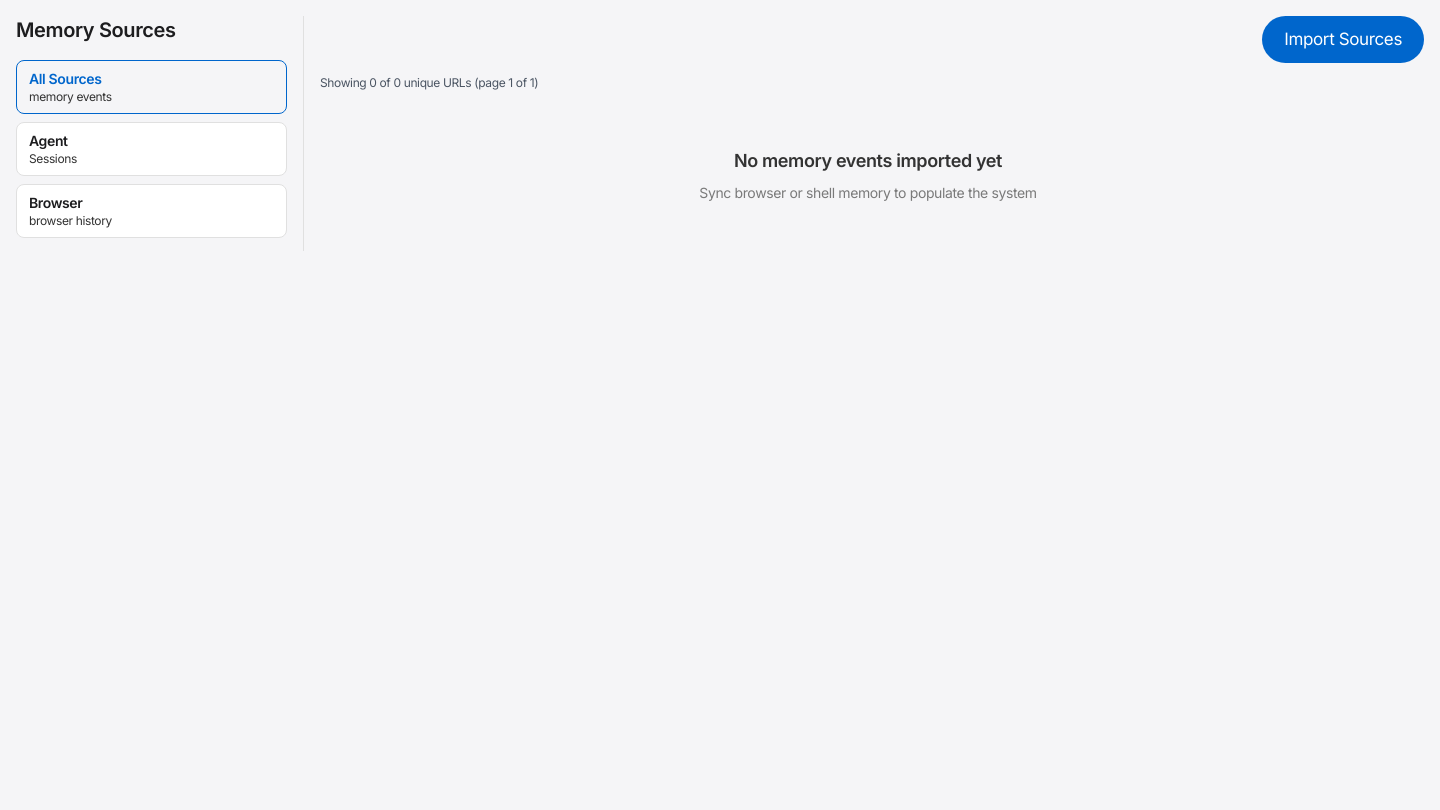
Test: SourceManagementPanel › shows only the selected source JSONL ledger format as formatted JSON
Click the button "Agent Sessions".
click(48, 140)  # box [16,122,287,176]
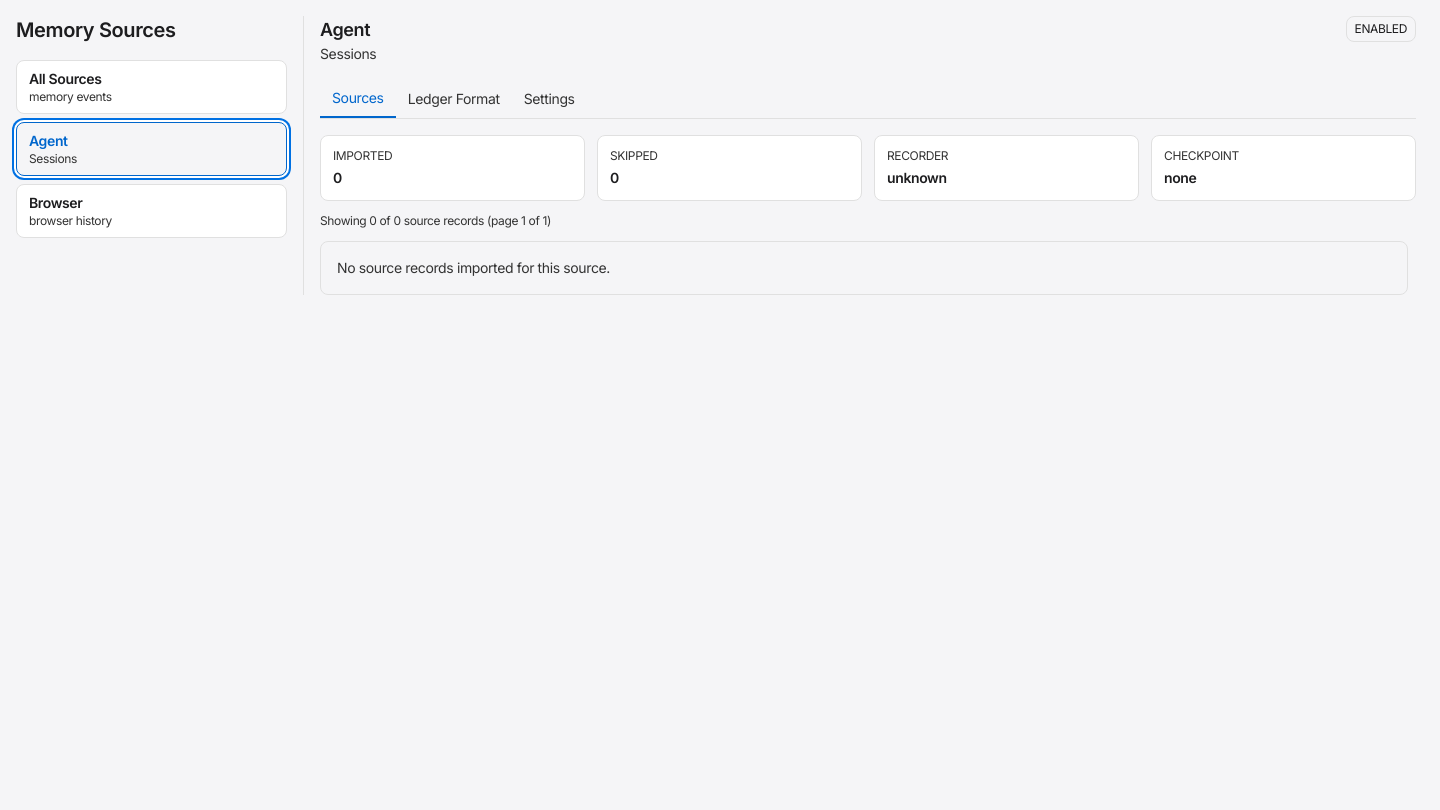
Click the tab "Ledger Format".
click(454, 99)  # box [396,80,512,118]
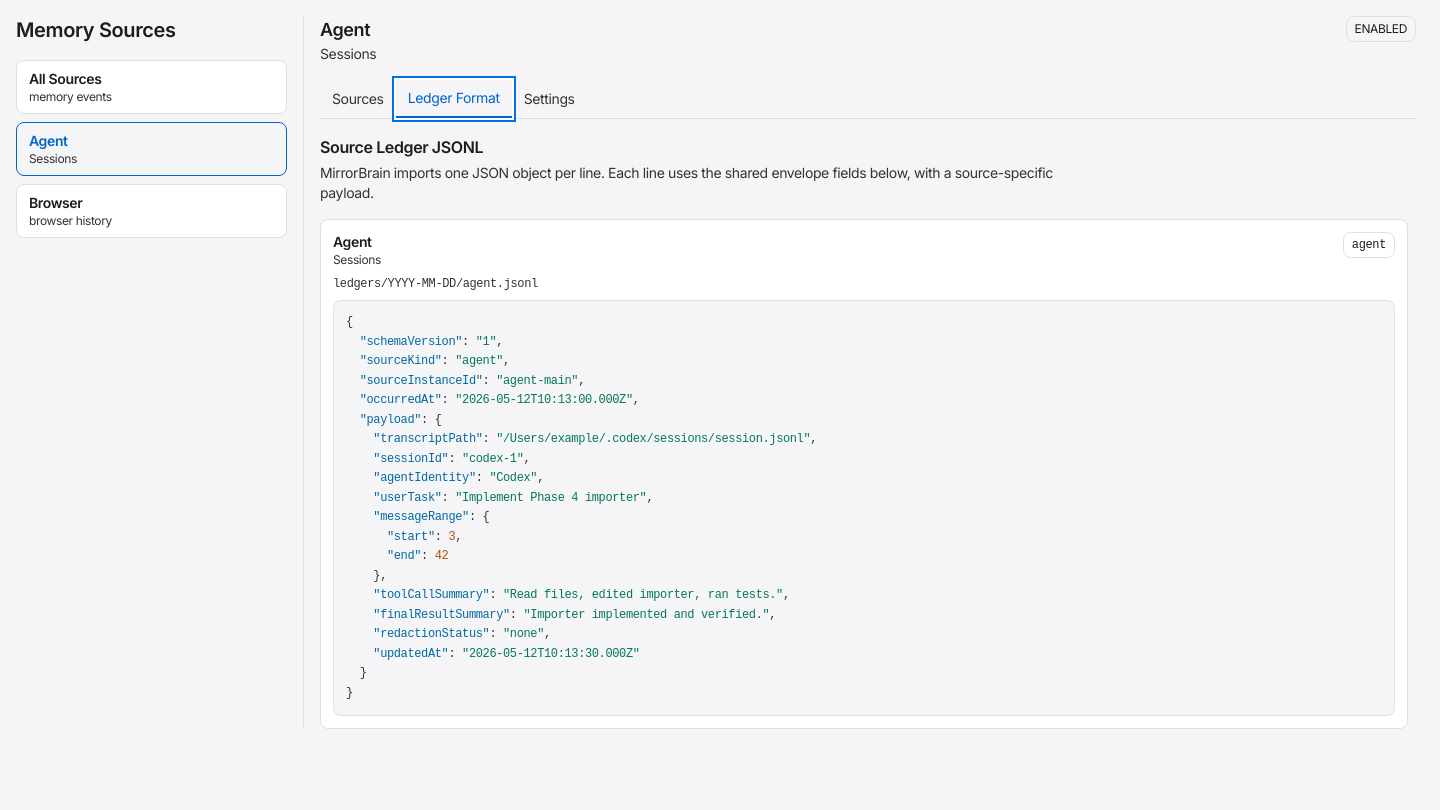
Result: the heading "Source Ledger JSONL" is shown at [320,137,483,157]
Result: the text "agent" is shown at [1343,232,1395,258]
Result: the element named "agent ledger JSONL example" shows "\"finalResultSummary\"" at [373,608,510,622]
Click the button "Browser browser history".
click(56, 202)  # box [16,184,287,238]
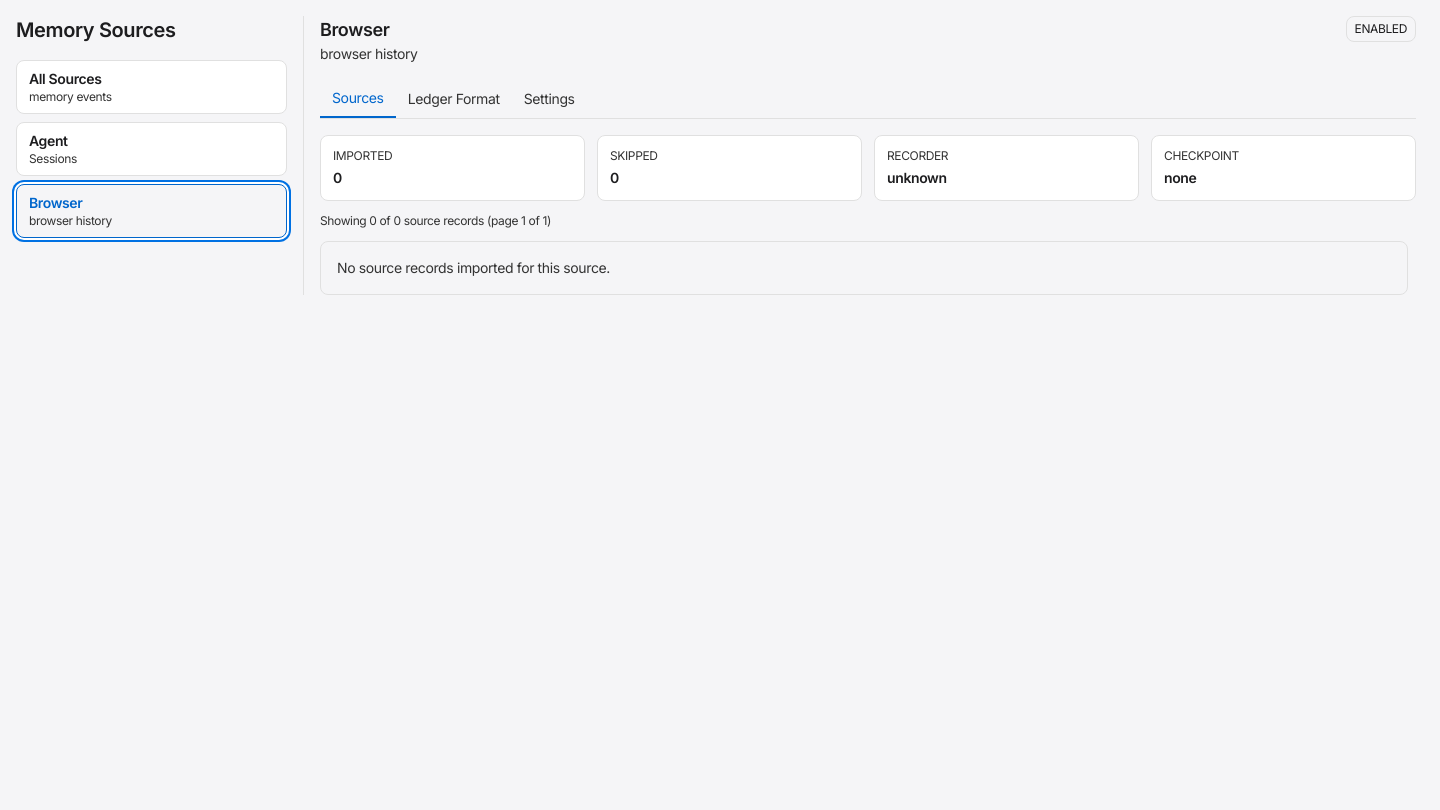
Click the tab "Ledger Format".
click(454, 99)  # box [396,80,512,118]
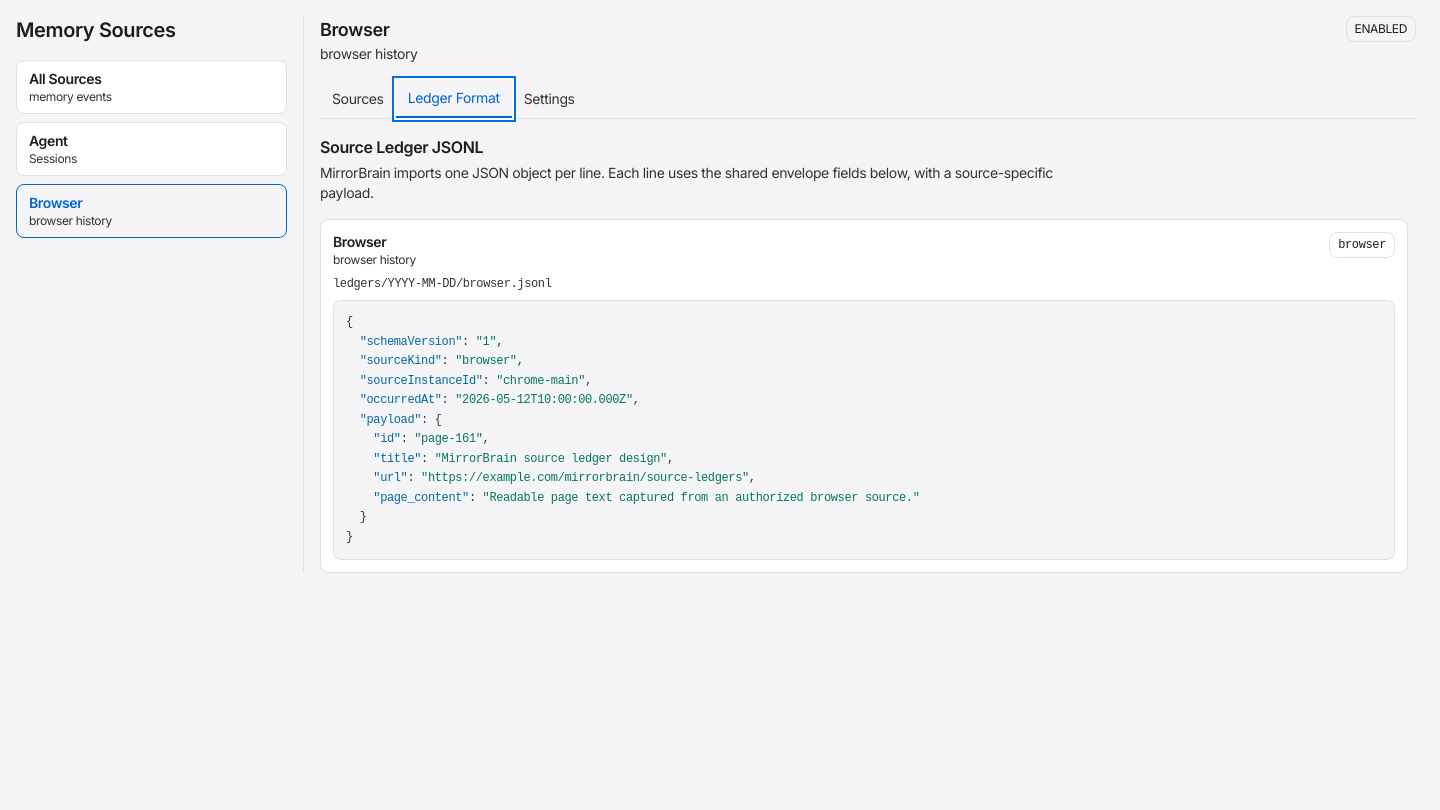
Result: the text "browser" is shown at [1329,232,1395,258]
Result: the element named "browser ledger JSONL example" shows "\"page_content\"" at [373,490,469,504]
